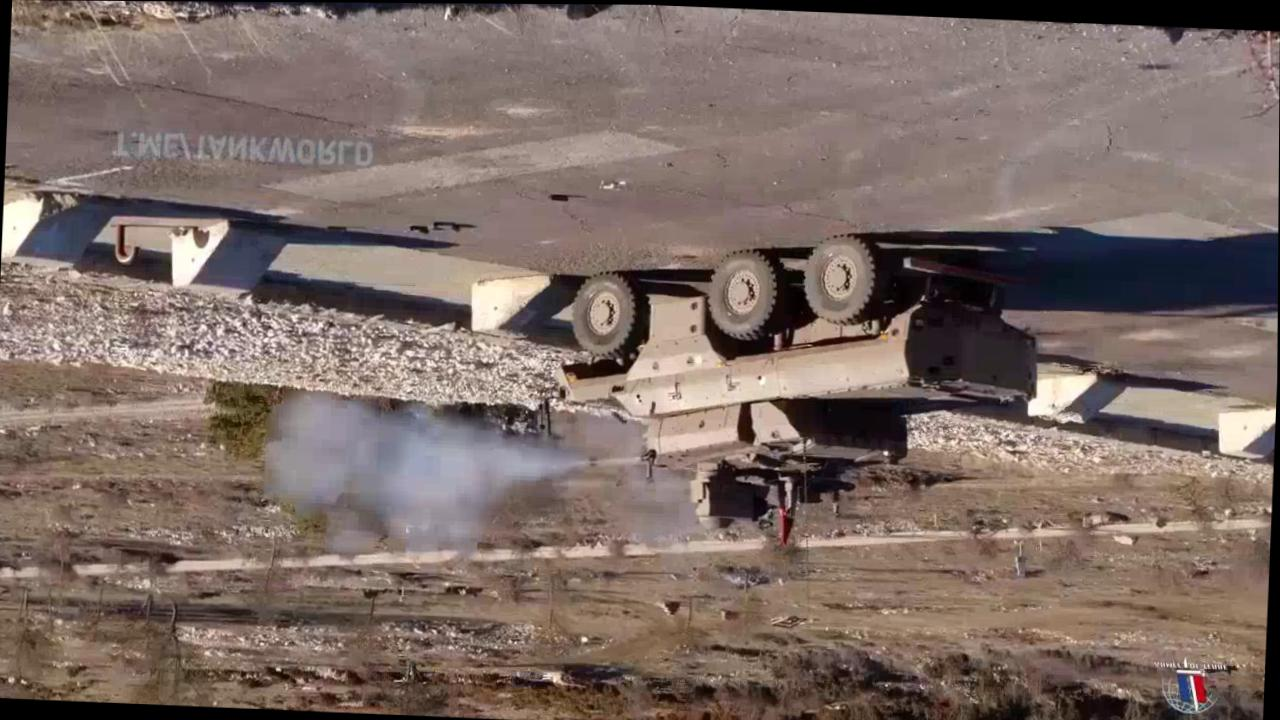tank: (548, 223, 1041, 547)
